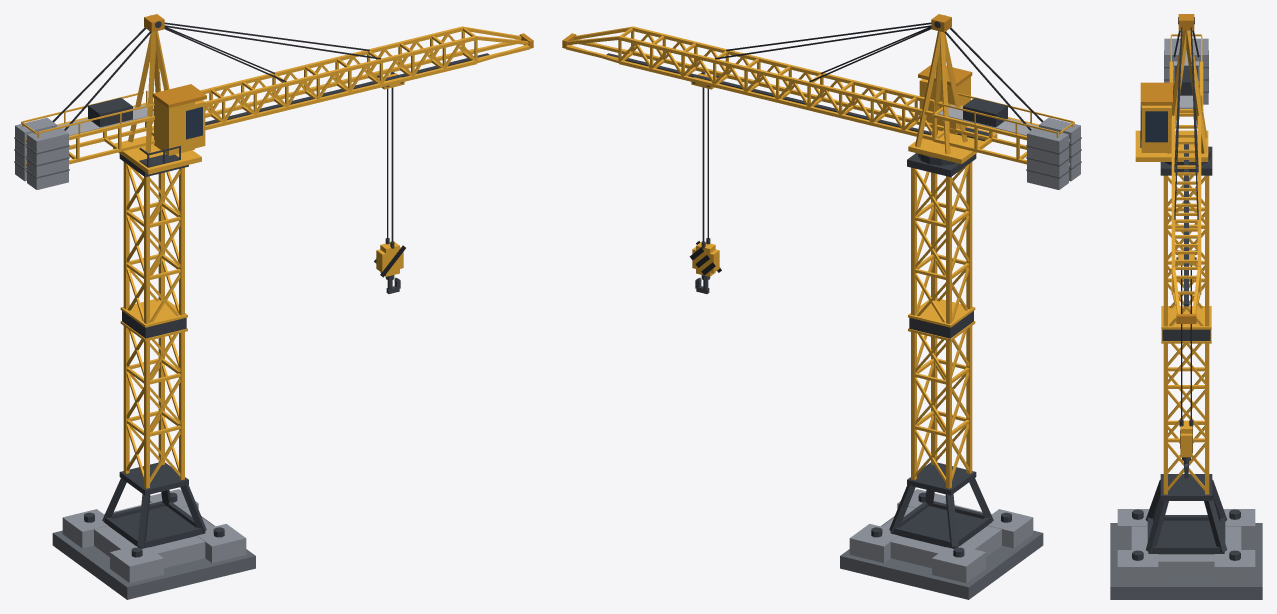
File: tower crane.fbx
The picture shows the model from 3 angles, left to right: view 1: azimuth 30°, elevation 25°; view 2: azimuth 150°, elevation 25°; view 3: azimuth 270°, elevation 25°; orthographic projection. The views are drawn at different scales.
Visible parts, largest first — view 1: Jib_TopChord_L; view 2: Jib_TopChord_L; view 3: Jib_TopChord_L.
Part boxes in pixels (x1=…): Jib_TopChord_L: x1=14, y1=14, x2=533, y2=599; Jib_TopChord_L: x1=562, y1=14, x2=1081, y2=599; Jib_TopChord_L: x1=1110, y1=14, x2=1262, y2=599.
Bounding box in the file's own units: 1837 × 1878 × 470.
